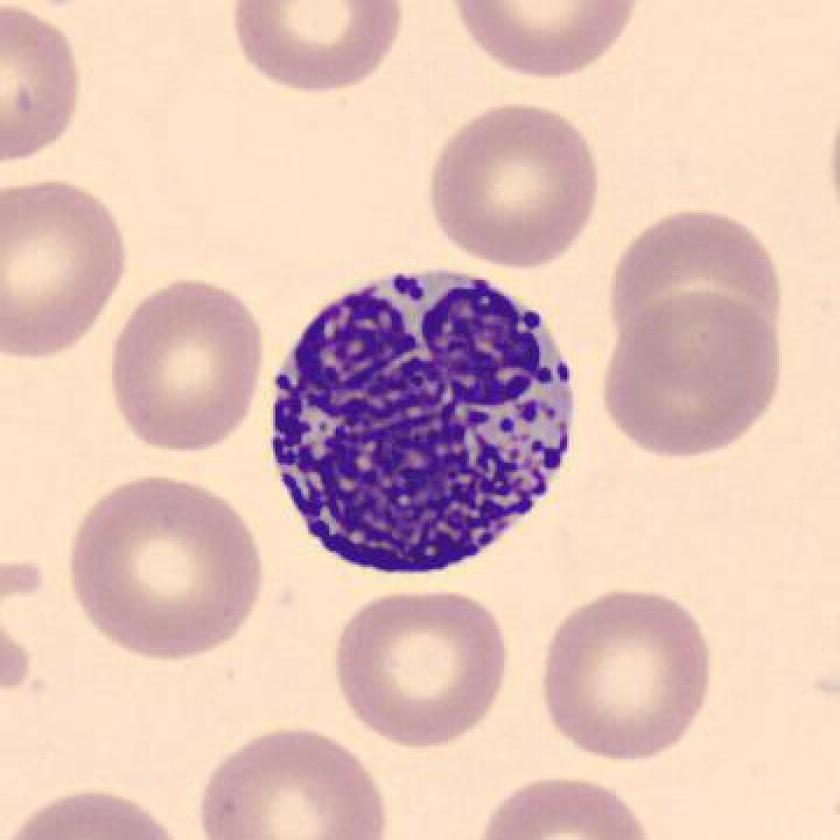basophil: (258, 253, 596, 591)
